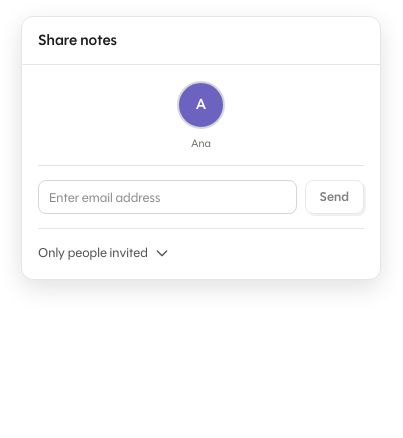
Test: ShareMeetingPopover › disables the public option when org gating is off
Step 1. Click the button "Only people invited" → (104, 253), box [38,243,170,262]
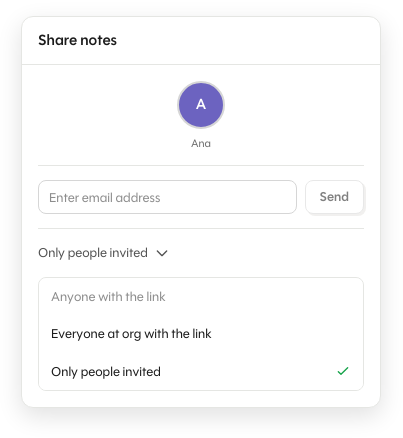
Expected: the button "Anyone with the link" is disabled, [39,278,363,315]
